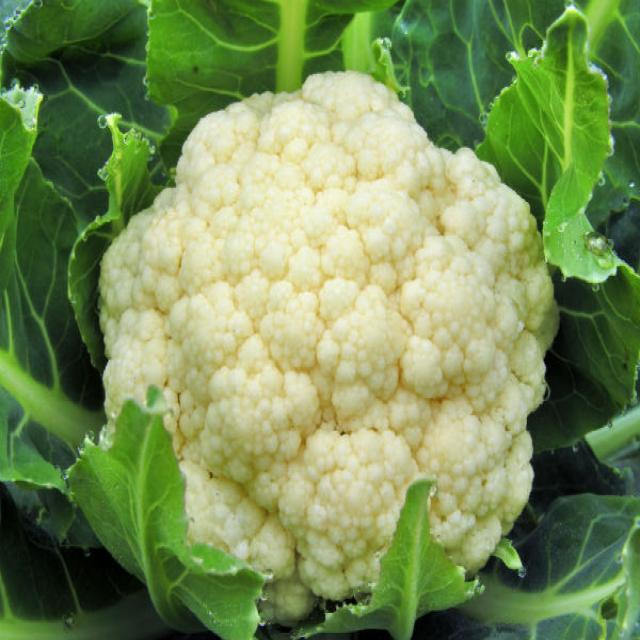Cauliflower head: (86, 73, 640, 613)
